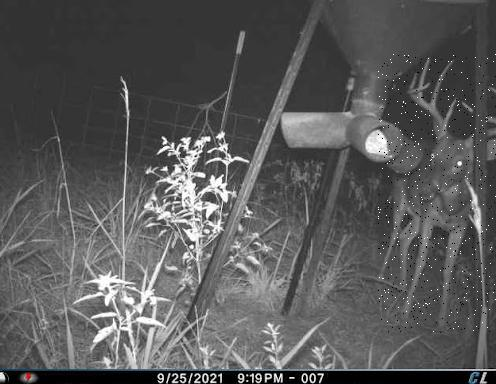Deer: (378, 54, 496, 333)
